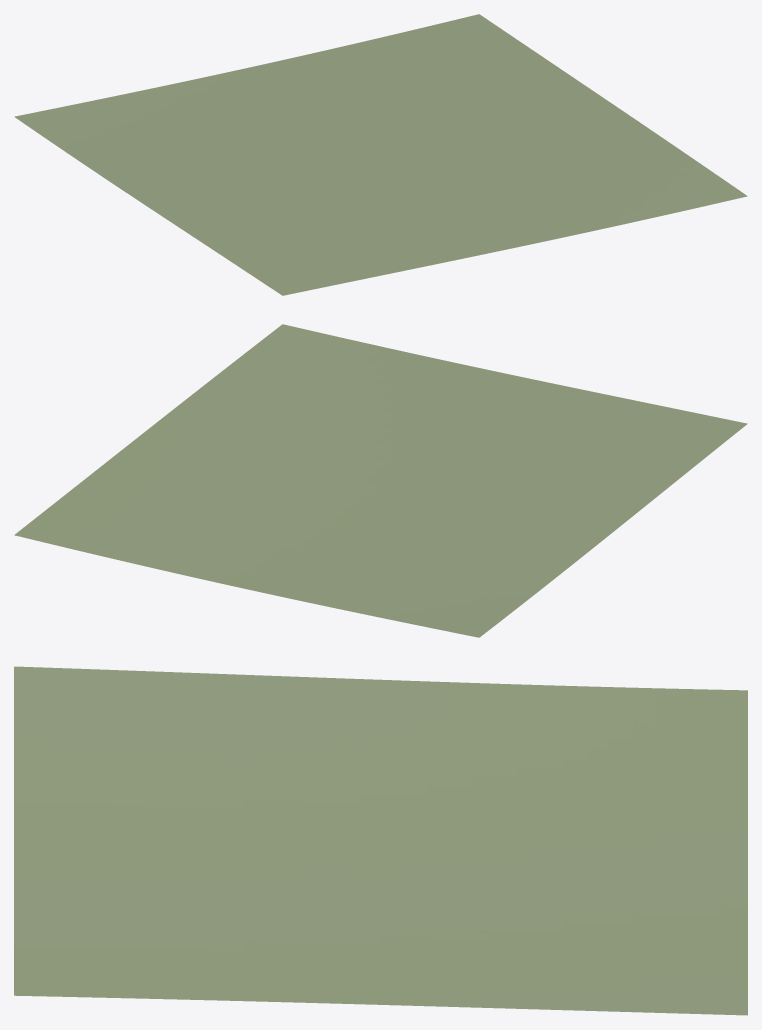
The model's file is expanse-2-7.glb.
3 renders of one model, top to bottom at view 1: azimuth 30°, elevation 25°; view 2: azimuth 150°, elevation 25°; view 3: azimuth 270°, elevation 25°, orthographic. The views are drawn at different scales.
Parts seen in each view (by area): view 1: expanse-2-7; view 2: expanse-2-7; view 3: expanse-2-7.
Boxes of the visible parts, left/top/right/bottom form: expanse-2-7: left=14, top=14, right=747, bottom=295; expanse-2-7: left=14, top=324, right=747, bottom=637; expanse-2-7: left=14, top=666, right=747, bottom=1015.
Bounding box in the file's own units: 256 × 14.93 × 256.
